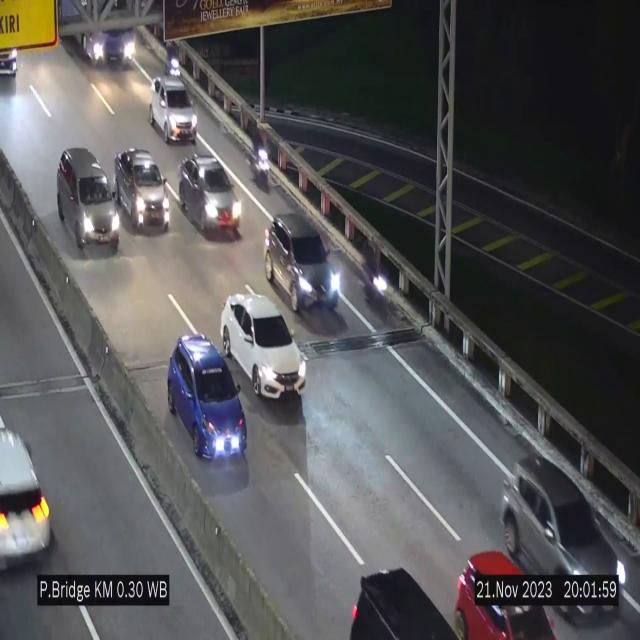Bus: (56, 0, 144, 68)
Car: (499, 438, 627, 628), (454, 536, 556, 640), (0, 397, 58, 576), (167, 334, 247, 459), (330, 570, 466, 640), (222, 295, 306, 397), (264, 214, 342, 316), (57, 148, 119, 255), (115, 143, 173, 245), (178, 158, 246, 238), (148, 72, 199, 146)
Motorcycle: (358, 243, 394, 318), (247, 121, 273, 196), (166, 38, 182, 81)
